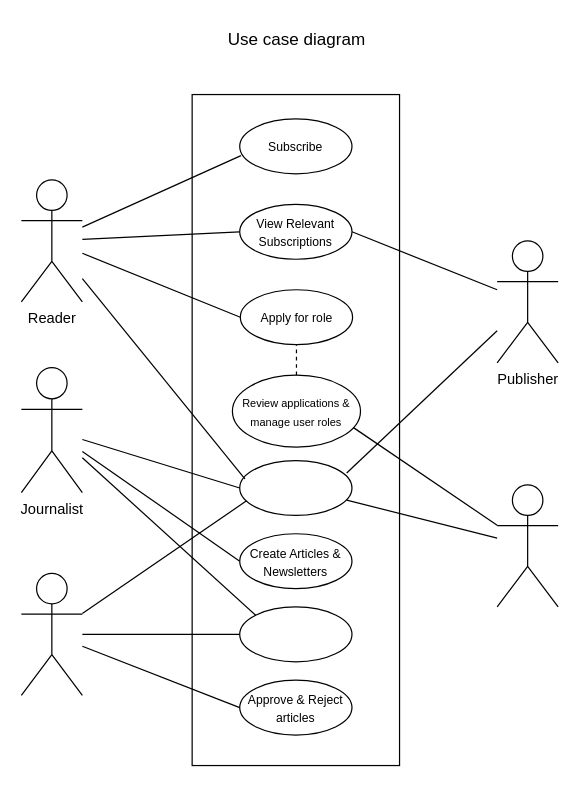
Some shapes in this 580 by 787 pixel diagram are drawn without their labels. Each missing label, with the centre of its shape:
Admin: [527,545]
Edit & Delete content: [295,634]
Editor: [51,633]
View Articles & Newsletters: [295,487]
